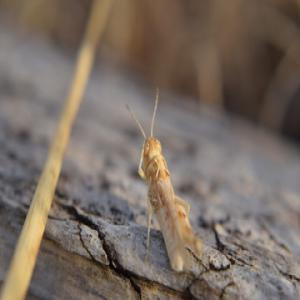locust: (129, 97, 201, 270)
